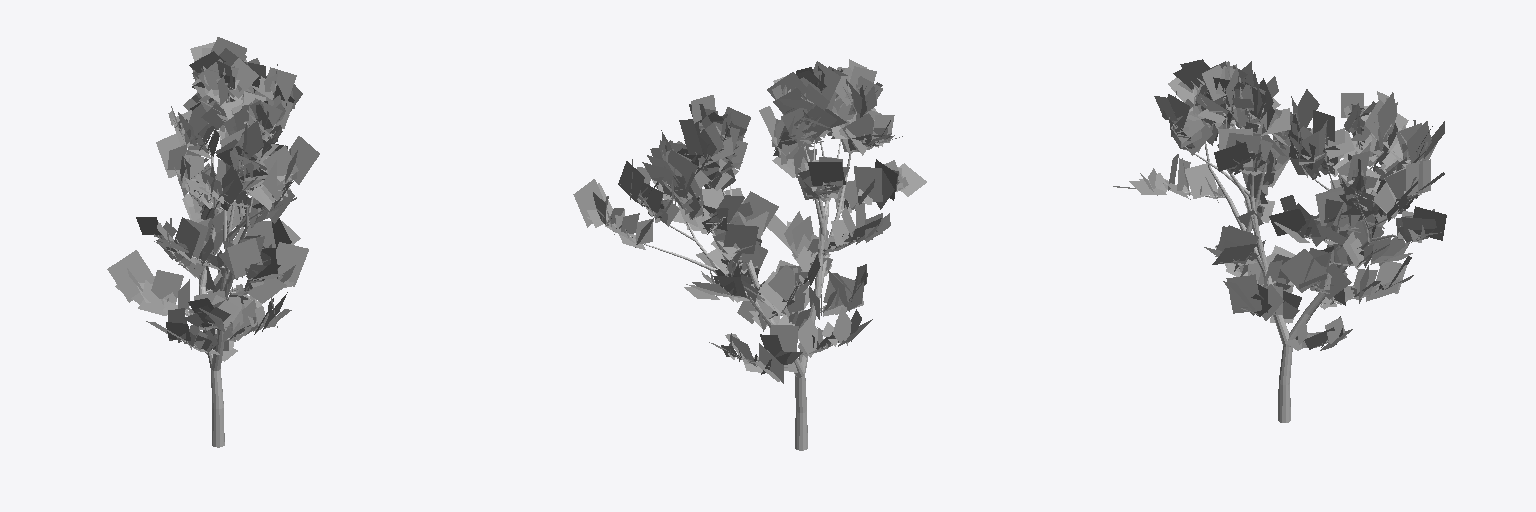
The model's file is Bereza.obj.
3 views of the same model, side by side, from view 1: azimuth 30°, elevation 25°; view 2: azimuth 150°, elevation 25°; view 3: azimuth 270°, elevation 25° (orthographic).
Parts seen in each view (by area): view 1: leaves, tree; view 2: leaves, tree; view 3: leaves, tree.
Part boxes in pixels (x1,y1,x2,y2): leaves: (107,37,319,361); tree: (155,85,289,447); leaves: (573,59,926,383); tree: (630,139,878,450); leaves: (1113,59,1446,350); tree: (1171,98,1419,422).
Size of the model in its own units: 4.3 by 6.63 by 5.53.